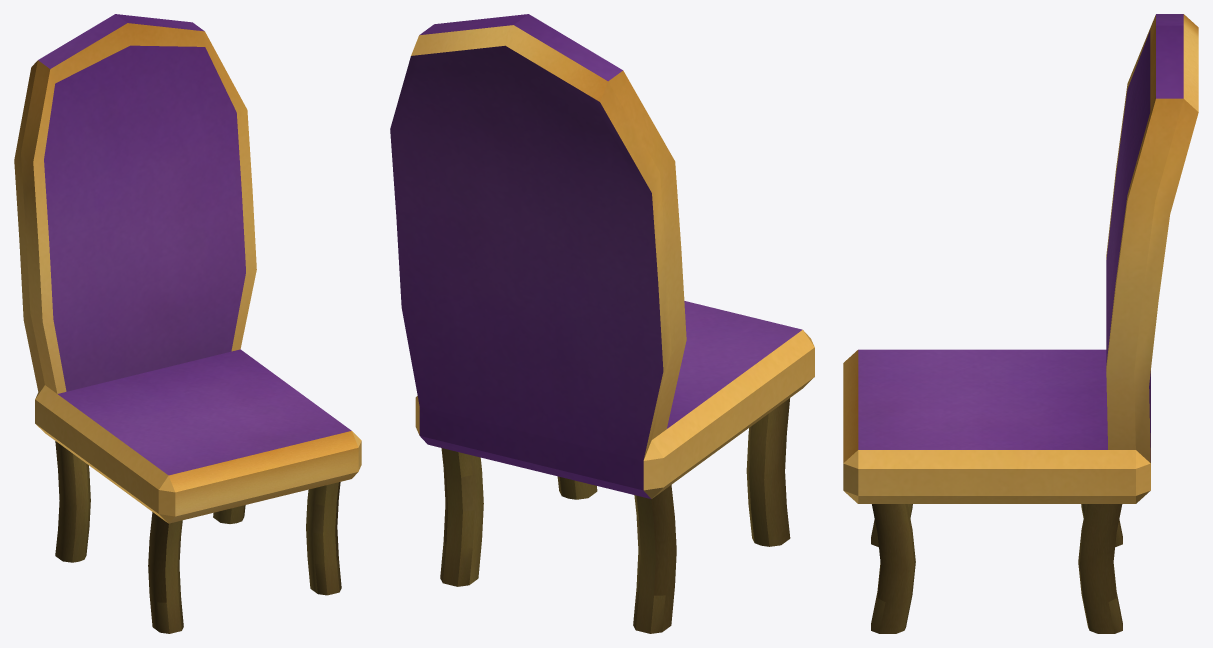
Rendered from SM_dining_table_chair.fbx.
The picture shows the model from 3 angles, left to right: view 1: azimuth 30°, elevation 25°; view 2: azimuth 150°, elevation 25°; view 3: azimuth 270°, elevation 25°; orthographic projection. The views are drawn at different scales.
Visible parts, largest first — view 1: Sm_dining_table_chair; view 2: Sm_dining_table_chair; view 3: Sm_dining_table_chair.
Part boxes in pixels (x1=…): Sm_dining_table_chair: x1=14, y1=14, x2=361, y2=633; Sm_dining_table_chair: x1=390, y1=14, x2=814, y2=633; Sm_dining_table_chair: x1=843, y1=14, x2=1198, y2=633.
Size of the model in its own units: 0.923 by 2.05 by 1.18.
